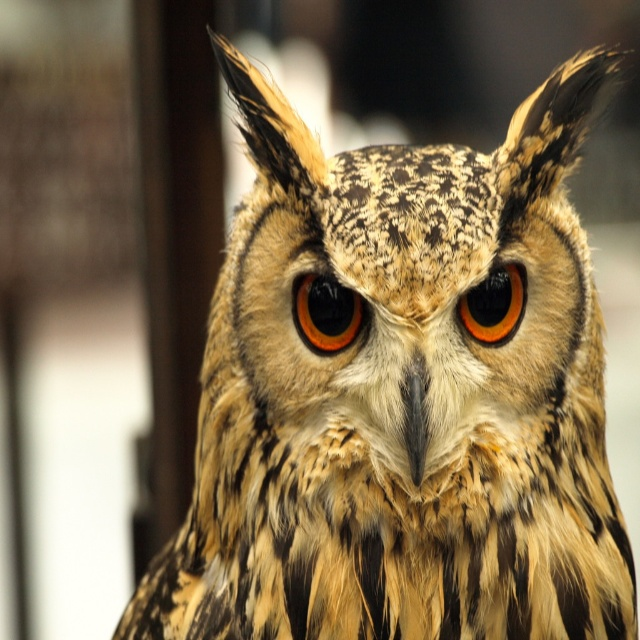Owl: (107, 26, 636, 639)
